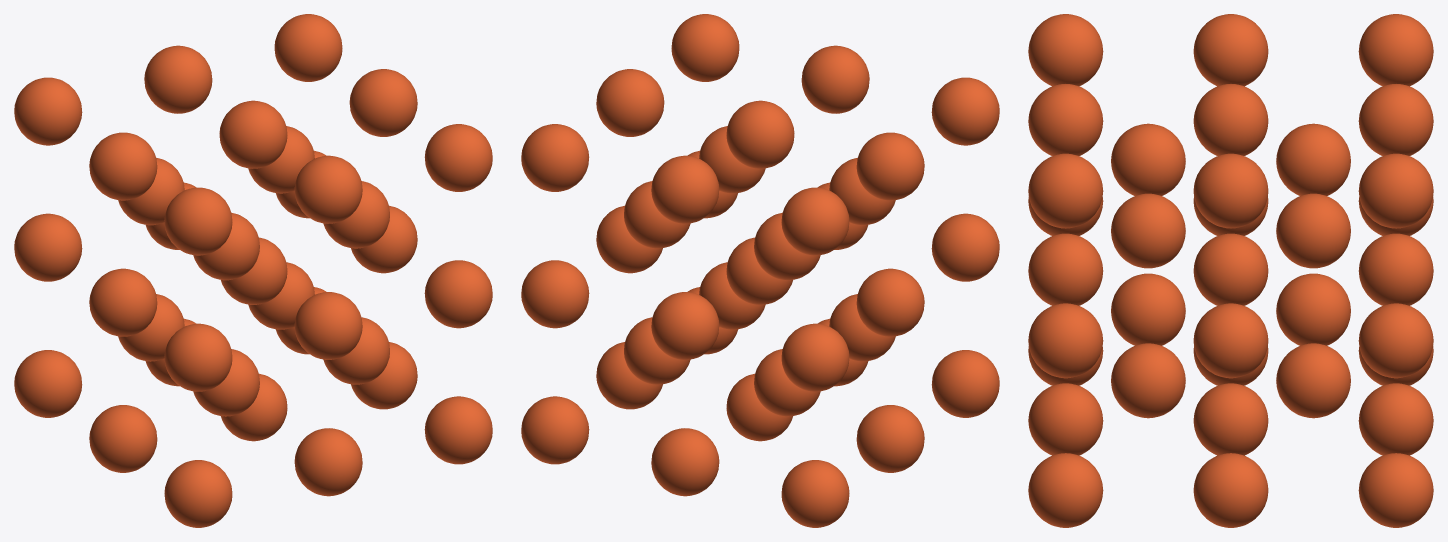
Rendered from iron.glb.
3 renders of one model, left to right at view 1: azimuth 30°, elevation 25°; view 2: azimuth 150°, elevation 25°; view 3: azimuth 270°, elevation 25°, orthographic. The views are drawn at different scales.
Parts seen in each view (by area): view 1: Fe (×31); view 2: Fe (×31); view 3: Fe (×35).
Part boxes in pixels (x1,y1,x2,y2): Fe (×31): (14,14,492,527); Fe (×31): (521,14,999,527); Fe (×35): (1028,14,1433,527).
Size of the model in its own units: 0.22 by 0.22 by 0.22.
